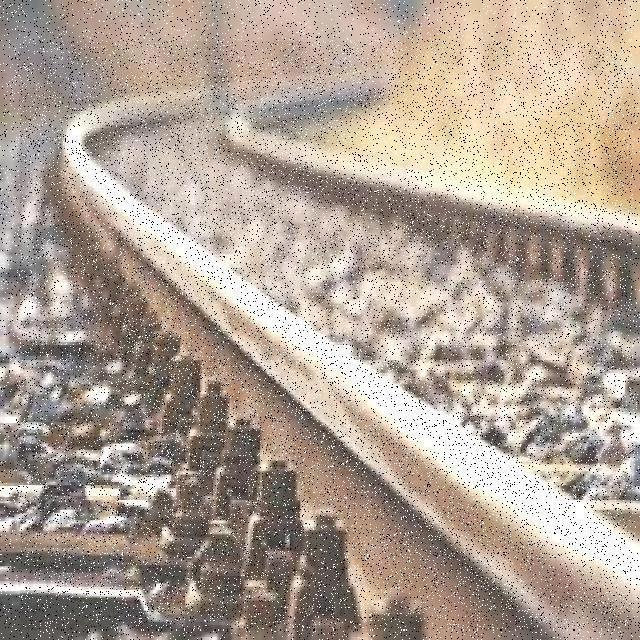rail: (21, 42, 633, 631)
